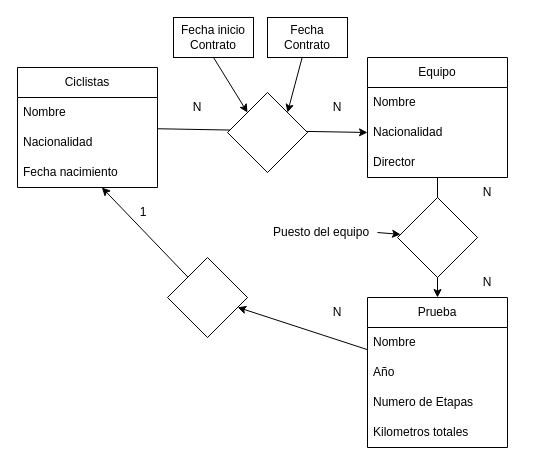
Some shapes in this 535 by 465 pixel diagram are drawn without their labels. The centre of each missing label's shape, as x and y in pixels:
Gana: the point at 207,297
participa: the point at 437,237
pertenece: the point at 267,132
